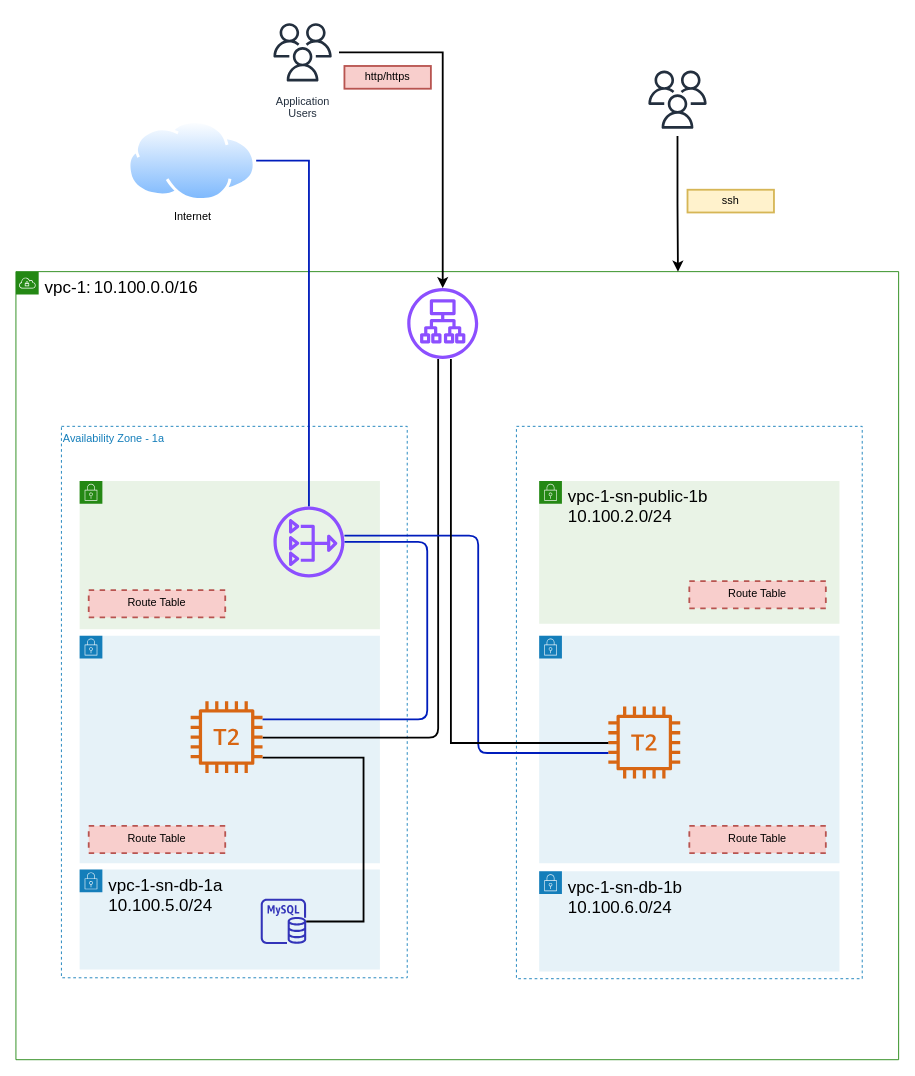
This 915x1076 diagram has some shape labels left out. Here are the shapes that lost their labels. From the top down, the box of each, then its label:
(640, 62, 714, 136): Application Support Engineers
(407, 288, 478, 359): ALB
(79, 480, 380, 629): vpc-1-sn-public-1a 10.100.1.0/24
(516, 425, 862, 979): Availability Zone - 1b
(79, 635, 380, 863): vpc-1-sn-private-1a 10.100.3.0/24
(538, 635, 839, 863): vpc-1-sn-private-1b 10.100.4.0/24
